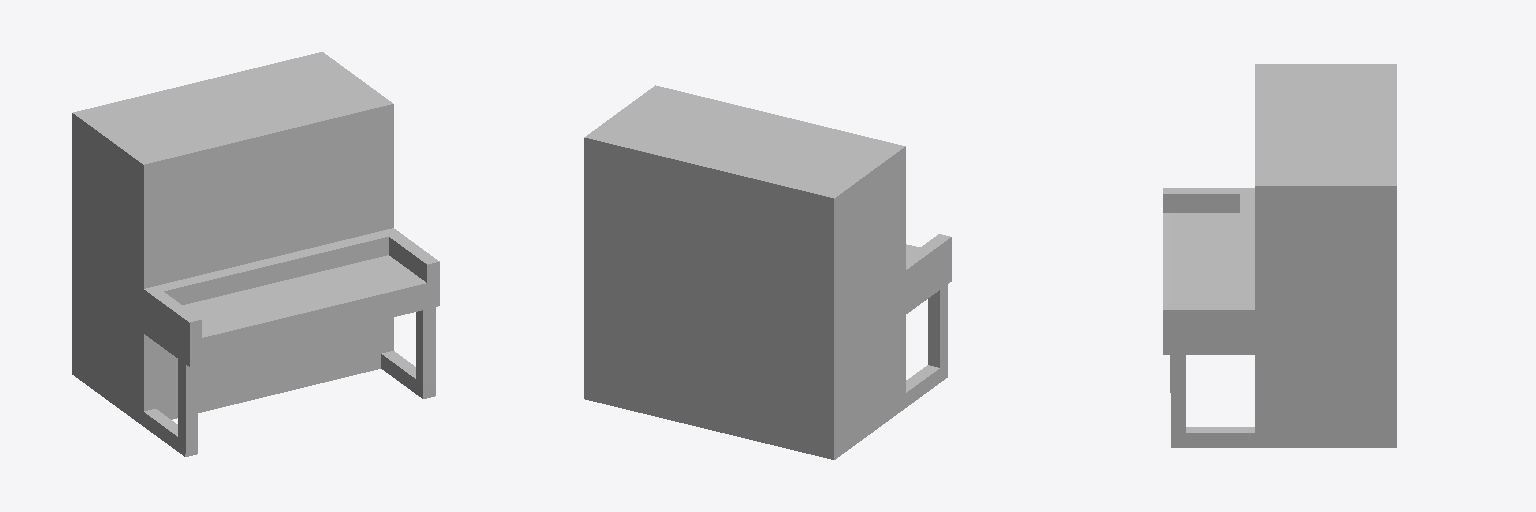
The model's file is piano.obj.
The picture shows the model from 3 angles: view 1: azimuth 30°, elevation 25°; view 2: azimuth 150°, elevation 25°; view 3: azimuth 270°, elevation 25°; orthographic projection.
Visible parts, largest first — view 1: pCube1; view 2: pCube1; view 3: pCube1.
Part boxes in pixels (left/top/right/bottom): pCube1: left=72, top=52, right=439, bottom=456; pCube1: left=584, top=85, right=951, bottom=459; pCube1: left=1163, top=64, right=1396, bottom=447.
Size of the model in its own units: 28.54 by 28.54 by 23.16.